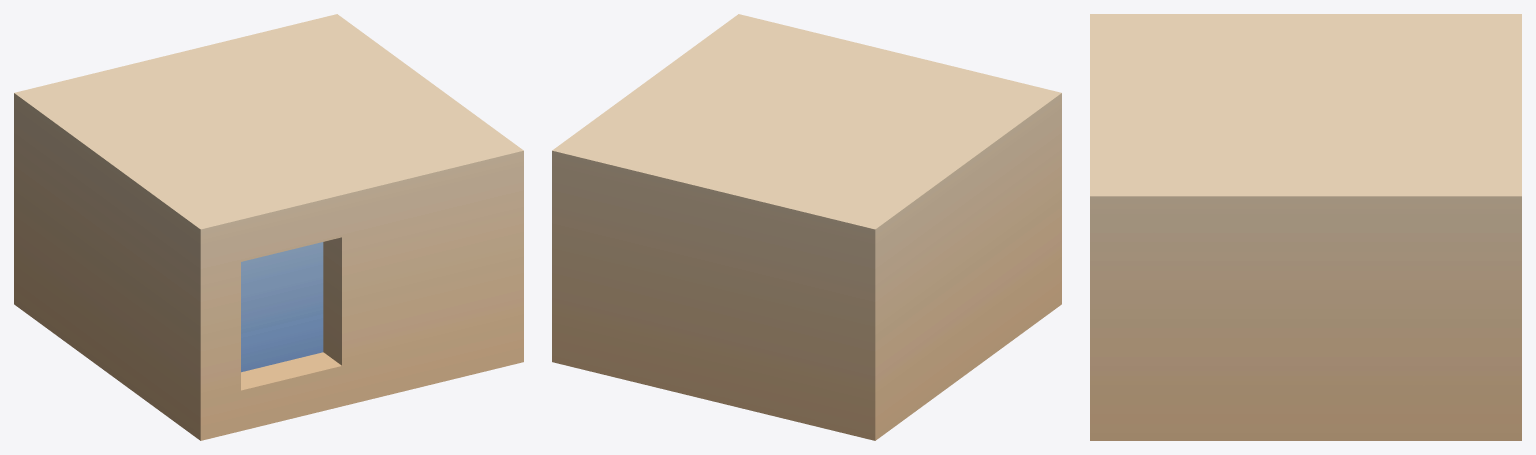
Rendered from kenney-modular-buildings-building-window-left.glb.
The picture shows the model from 3 angles, left to right: view 1: azimuth 30°, elevation 25°; view 2: azimuth 150°, elevation 25°; view 3: azimuth 270°, elevation 25°; orthographic projection. The views are drawn at different scales.
Visible parts, largest first — view 1: building-window-left; view 2: building-window-left; view 3: building-window-left.
Boxes of the visible parts, x1,y1,x2,y2 form: building-window-left: [14, 14, 523, 440]; building-window-left: [552, 14, 1061, 440]; building-window-left: [1090, 14, 1521, 440].
Bounding box in the file's own units: 1 × 0.625 × 1.
1 material, 1 textured.
